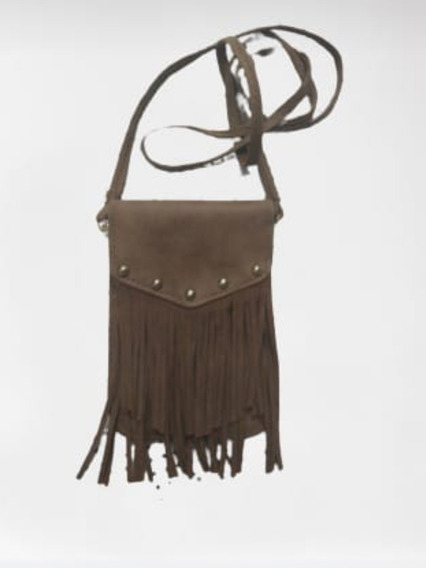cartera: (99, 22, 346, 449)
